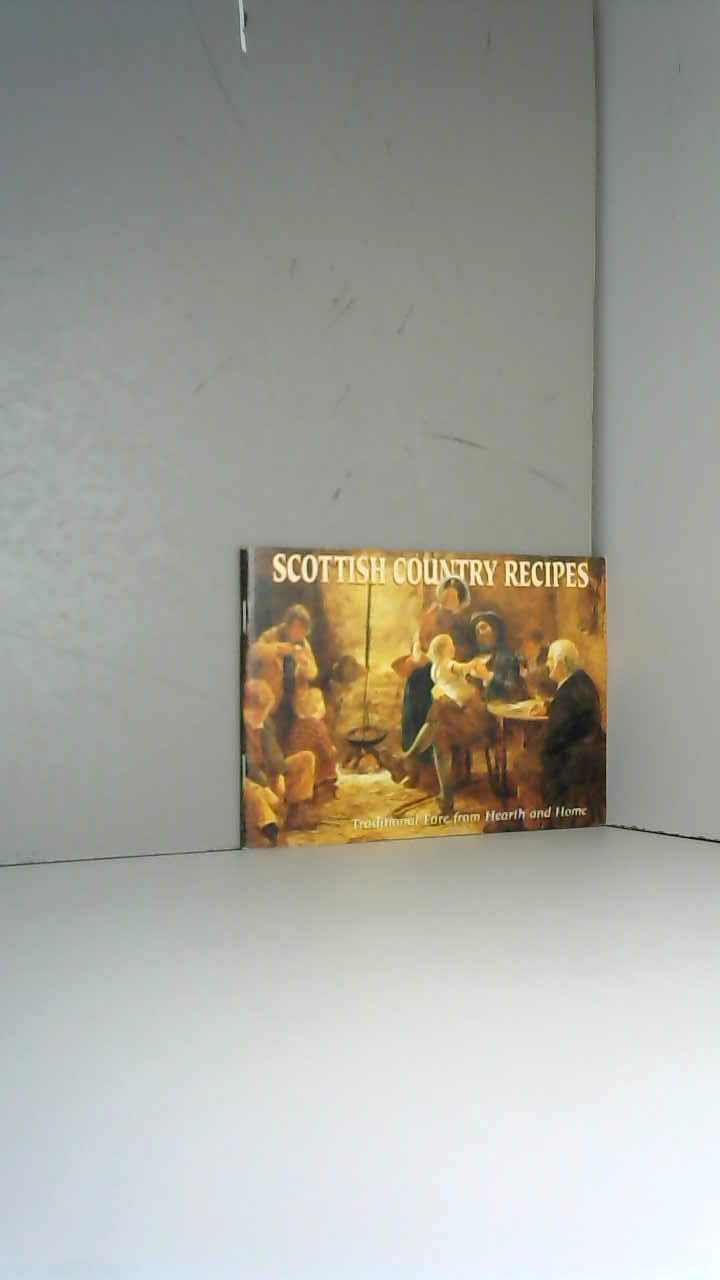book: (221, 530, 621, 863)
